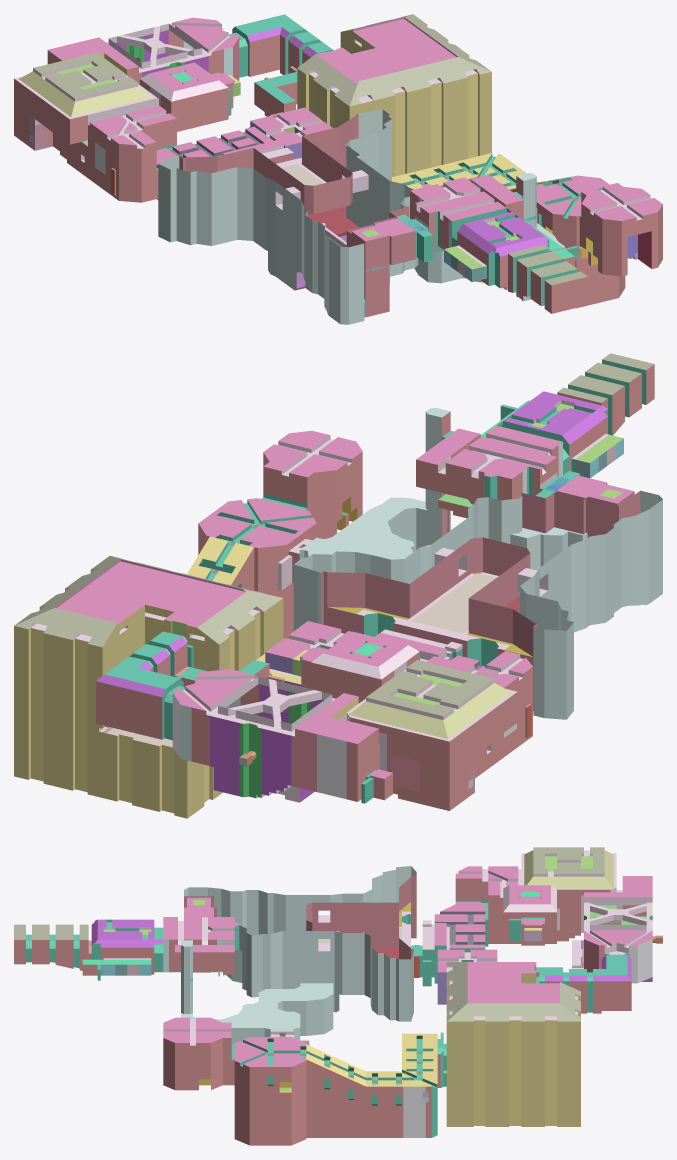
File: e1m1quakev2.fbx
3 renders of one model, top to bottom at view 1: azimuth 30°, elevation 25°; view 2: azimuth 150°, elevation 25°; view 3: azimuth 270°, elevation 25°, orthographic. The views are drawn at different scales.
Parts seen in each view (by area): view 1: bsp_model_0; view 2: bsp_model_0; view 3: bsp_model_0.
Boxes of the visible parts, x1,y1,x2,y2 form: bsp_model_0: (14, 14, 662, 324); bsp_model_0: (14, 353, 662, 818); bsp_model_0: (14, 847, 662, 1145).
Size of the model in its own units: 6550 by 2700 by 10875.
